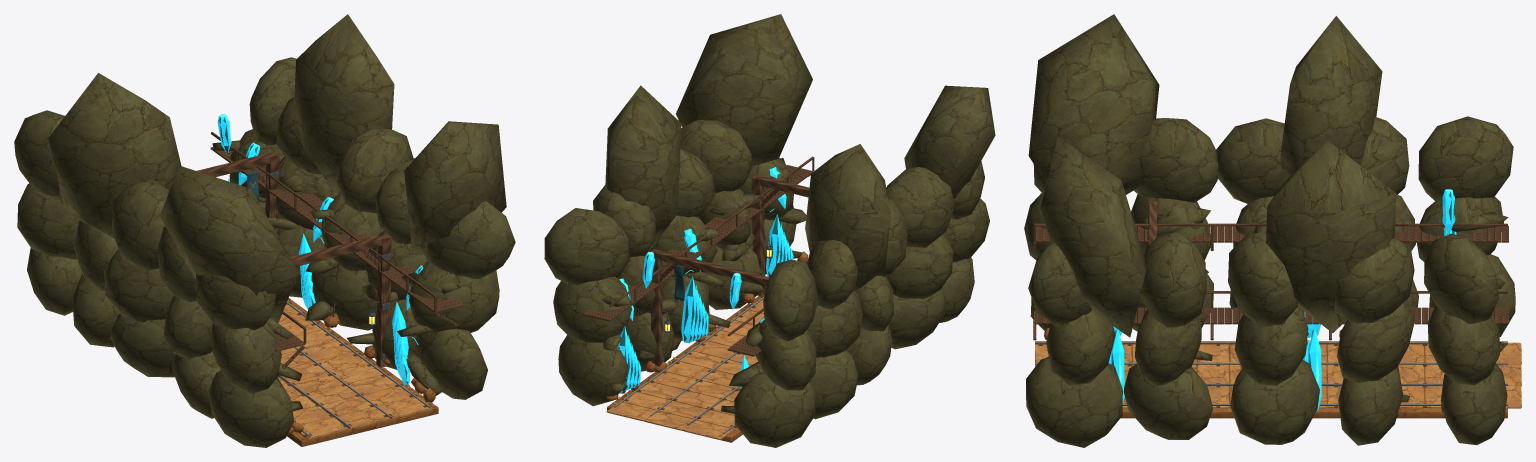
File: crystal_track.glb
3 renders of one model, left to right at view 1: azimuth 30°, elevation 25°; view 2: azimuth 150°, elevation 25°; view 3: azimuth 270°, elevation 25°, orthographic. The views are drawn at different scales.
Parts seen in each view (by area): view 1: crystal_track; view 2: crystal_track; view 3: crystal_track.
Boxes of the visible parts, left/top/right/bottom form: crystal_track: left=14, top=14, right=515, bottom=447; crystal_track: left=544, top=14, right=995, bottom=447; crystal_track: left=1024, top=14, right=1521, bottom=447.
Size of the model in its own units: 20.83 by 17.43 by 25.26.
Materials: 13 (8 with a texture image).
